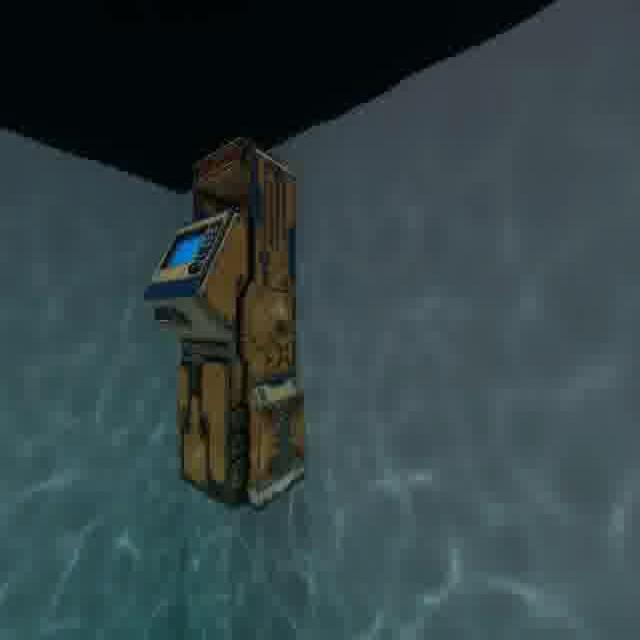Control Panel: (131, 125, 325, 520)
